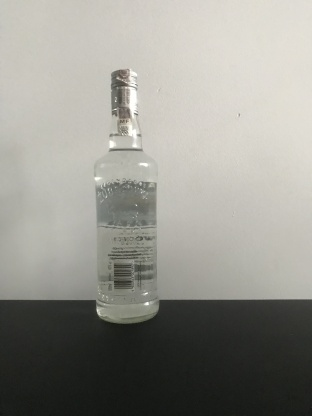nakretka: (108, 66, 140, 116)
